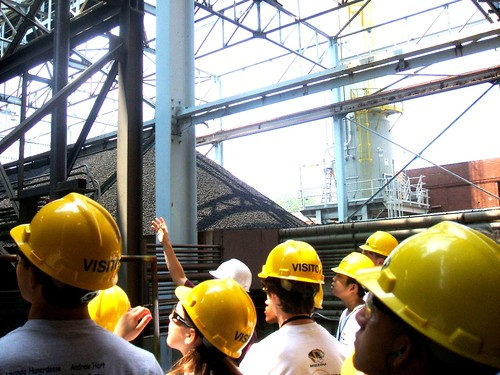person hardhat: (2, 188, 154, 375), (353, 212, 500, 375), (250, 227, 339, 375), (153, 219, 259, 329), (154, 277, 258, 374), (330, 249, 369, 369), (88, 284, 146, 358), (359, 225, 404, 271)
